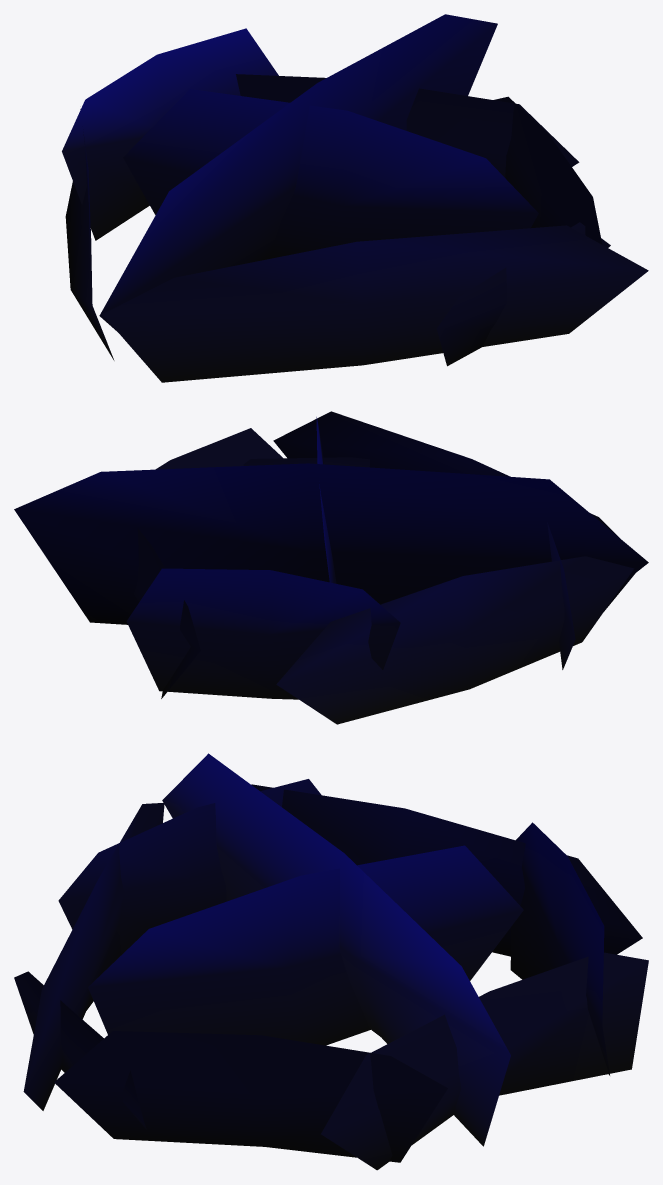
The model's file is SM_Grass_XS_Patch_S_05.fbx.
The picture shows the model from 3 angles, top to bottom: view 1: azimuth 30°, elevation 25°; view 2: azimuth 150°, elevation 25°; view 3: azimuth 270°, elevation 25°; orthographic projection. The views are drawn at different scales.
Visible parts, largest first — view 1: SM_Grass_XS_Patch_S_05; view 2: SM_Grass_XS_Patch_S_05; view 3: SM_Grass_XS_Patch_S_05.
Part boxes in pixels (x1,y1,x2,y2): SM_Grass_XS_Patch_S_05: [62, 14, 648, 382]; SM_Grass_XS_Patch_S_05: [14, 411, 648, 724]; SM_Grass_XS_Patch_S_05: [14, 753, 648, 1170].
Size of the model in its own units: 64.43 by 57.65 by 19.83.
